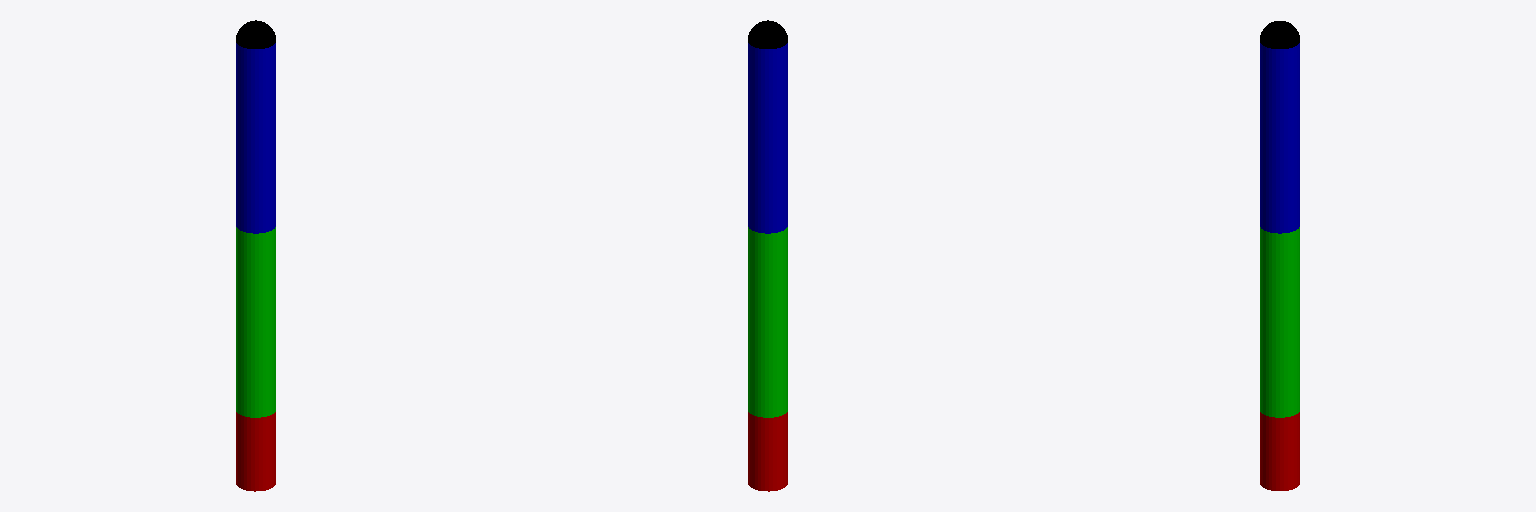
The robot description file, URDF, robot "test_robot":
<robot name="test_robot">

  <link name="base_link"/>

  <link name="link1">
    <visual>
      <geometry>
        <cylinder length="0.2" radius="0.05"/>
      </geometry>
      <material name="red">
        <color rgba="0.8 0 0 1"/>
      </material>
      <origin rpy="0 0 0" xyz="0 0 0.1"/>
    </visual>
    <collision>
      <geometry>
        <cylinder length="0.2" radius="0.05"/>
      </geometry>
      <origin rpy="0 0 0" xyz="0 0 0.1"/>
    </collision>
    <inertial>
      <mass value="2"/>
      <inertia ixx="1.0" ixy="0.0" ixz="0.0" iyy="1.0" iyz="0.0" izz="1.0"/>
    </inertial>
  </link>
  
  <link name="link2">
    <visual>
      <geometry>
        <cylinder length="0.5" radius="0.05"/>
      </geometry>
      <material name="green">
        <color rgba="0 0.8 0 1"/>
      </material>
      <origin rpy="0 0 0" xyz="0 0 0.25"/>
    </visual>
    <collision>
      <geometry>
        <cylinder length="0.5" radius="0.05"/>
      </geometry>
      <origin rpy="0 0 0" xyz="0 0 0.25"/>
    </collision>
    <inertial>
      <mass value="2"/>
      <inertia ixx="1.0" ixy="0.0" ixz="0.0" iyy="1.0" iyz="0.0" izz="1.0"/>
    </inertial>
  </link>

  <link name="link3">
    <visual>
      <geometry>
        <cylinder length="0.5" radius="0.05"/>
      </geometry>
      <material name="blue">
        <color rgba="0 0 0.8 1"/>
      </material>
      <origin rpy="0 0 0" xyz="0 0 0.25"/>
    </visual>
    <collision>
      <geometry>
        <cylinder length="0.5" radius="0.05"/>
      </geometry>
      <origin rpy="0 0 0" xyz="0 0 0.25"/>
    </collision>
    <inertial>
      <mass value="2"/>
      <inertia ixx="1.0" ixy="0.0" ixz="0.0" iyy="1.0" iyz="0.0" izz="1.0"/>
    </inertial>
  </link>

  <link name="eePoint">
    <visual>
      <geometry>
        <sphere  radius="0.05"/>
      </geometry>
      <material name="black">
        <color rgba="0. 0. 0. 1"/>
      </material>
      <origin rpy="0 0 0" xyz="0 0 0.0"/>
    </visual>
    <collision>
      <geometry>
        <sphere radius="0.05"/>
      </geometry>
      <origin rpy="0 0 0" xyz="0 0 0.0"/>
    </collision>
    <inertial>
      <mass value="0.001"/>
      <inertia ixx="1.0" ixy="0.0" ixz="0.0" iyy="1.0" iyz="0.0" izz="1.0"/>
    </inertial>
  </link>

  <joint name="joint1" type="continuous">
    <parent link="base_link"/>
    <child link="link1"/>
    <origin xyz="0 0 0" rpy="0 0 0" />
    <axis xyz = "0 0 1" />
  </joint>

  <joint name="joint2" type="continuous">
    <parent link="link1"/>
    <child link="link2"/>
    <origin xyz="0 0 0.2" rpy="0 0 0" />
    <axis xyz = "1 0 0" />
  </joint>

  <joint name="joint3" type="continuous">
    <parent link="link2"/>
    <child link="link3"/>
    <origin xyz="0 0 0.5" rpy="0 0 0" />
    <axis xyz = "1 0 0" />
  </joint>

  <joint name="joint4" type="fixed">
    <parent link="link3"/>
    <child link="eePoint"/>
    <origin xyz="0. 0. 0.5"/>
  </joint>

</robot>

--- Facts derived from the render (not from the file) ---
The picture shows the robot from 3 angles, left to right: view 1: azimuth 30°, elevation 25°; view 2: azimuth 150°, elevation 25°; view 3: azimuth 270°, elevation 25°; orthographic projection.
Model test_robot with 5 links and 4 joints (3 continuous, 1 fixed), rooted at base_link, posed every joint at zero.
Visible links, largest first — view 1: link2, link3, link1, eePoint; view 2: link2, link3, link1, eePoint; view 3: link2, link3, link1, eePoint.
Boxes of the visible links, <box> form: link2: <box>236,227,275,417</box>; link3: <box>236,43,275,233</box>; link1: <box>236,412,275,491</box>; eePoint: <box>236,20,275,48</box>; link2: <box>748,227,787,417</box>; link3: <box>748,43,787,233</box>; link1: <box>748,412,787,491</box>; eePoint: <box>748,20,787,48</box>; link2: <box>1260,227,1299,417</box>; link3: <box>1260,43,1299,233</box>; link1: <box>1260,412,1299,490</box>; eePoint: <box>1260,21,1299,48</box>.
Bounding box of the posed robot: 0.1 × 0.1 × 1.25 m (x, y, z).
Geometry: primitives only (box / cylinder / sphere), no mesh files.